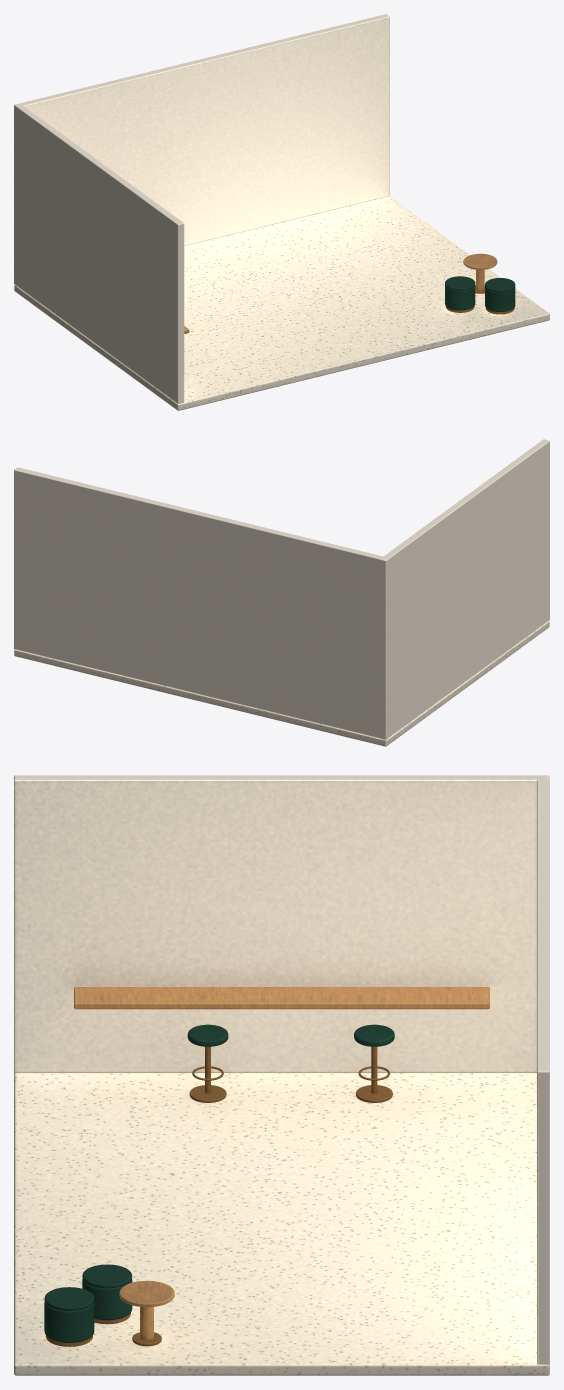
Rendered from coffee-shop-v1.glb.
3 views of the same model, one above another, from view 1: azimuth 30°, elevation 25°; view 2: azimuth 150°, elevation 25°; view 3: azimuth 270°, elevation 25° (orthographic). The views are drawn at different scales.
Parts seen in each view (by area): view 1: coffee-shop-baked-static-v1; view 2: coffee-shop-baked-static-v1; view 3: coffee-shop-baked-static-v1.
Part boxes in pixels (x1,y1,x2,y2): coffee-shop-baked-static-v1: (14,14,549,410); coffee-shop-baked-static-v1: (14,439,549,746); coffee-shop-baked-static-v1: (14,775,549,1375).
Bounding box in the file's own units: 7.6 × 3.64 × 5.8.
5 materials, 5 textured.
